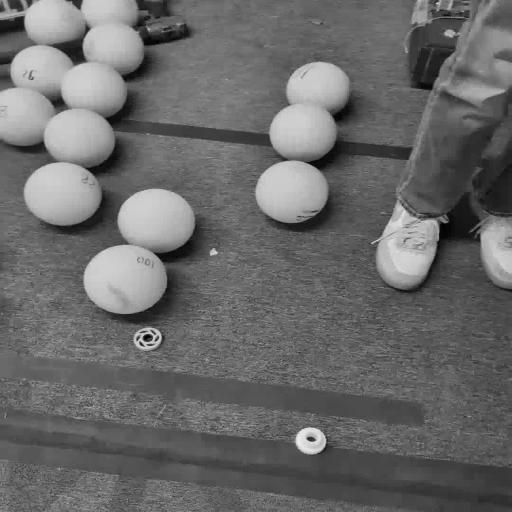fuel: (83, 245, 167, 314), (118, 189, 195, 253), (24, 163, 102, 226), (256, 161, 329, 223), (44, 109, 115, 168), (270, 104, 337, 162), (62, 63, 127, 117), (10, 45, 73, 100), (286, 62, 350, 115), (0, 88, 54, 146), (83, 24, 144, 75)
